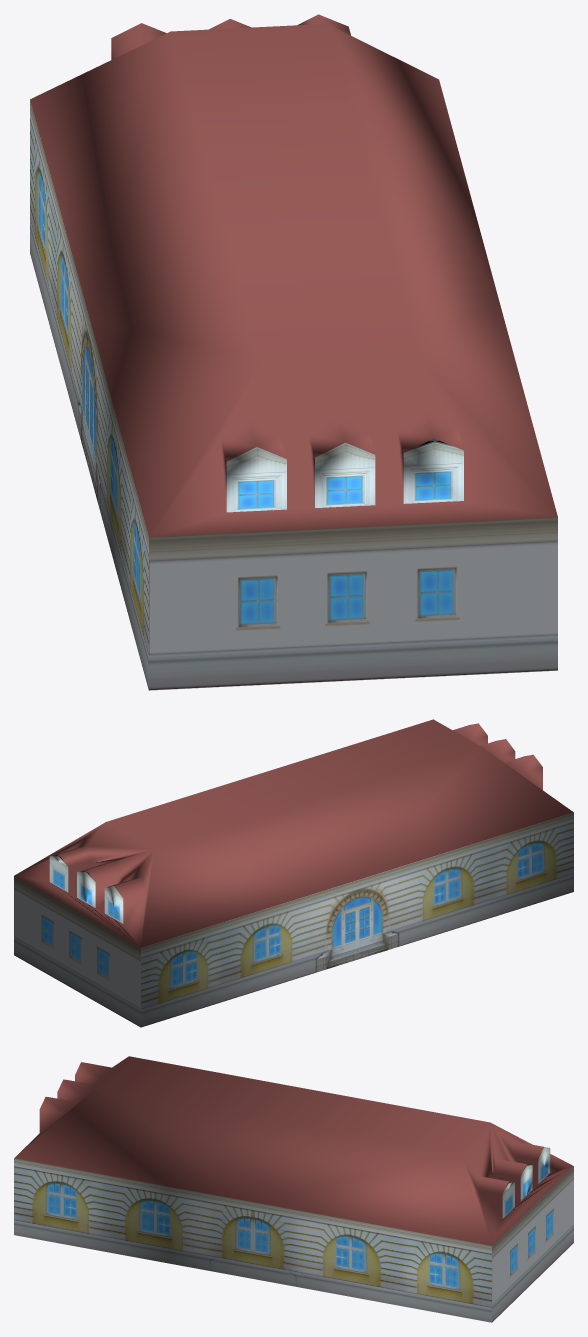
The model's file is lp-building9.fbx.
3 views of the same model, one above another, from view 1: azimuth 30°, elevation 25°; view 2: azimuth 150°, elevation 25°; view 3: azimuth 270°, elevation 25° (orthographic). The views are drawn at different scales.
Parts seen in each view (by area): view 1: 01houses; view 2: 01houses; view 3: 01houses.
Part boxes in pixels (left/top/right/bottom): 01houses: left=30, top=14, right=557, bottom=690; 01houses: left=14, top=719, right=573, bottom=1027; 01houses: left=14, top=1056, right=573, bottom=1322.
Size of the model in its own units: 736 by 276 by 1041.
1 material, 1 textured.
